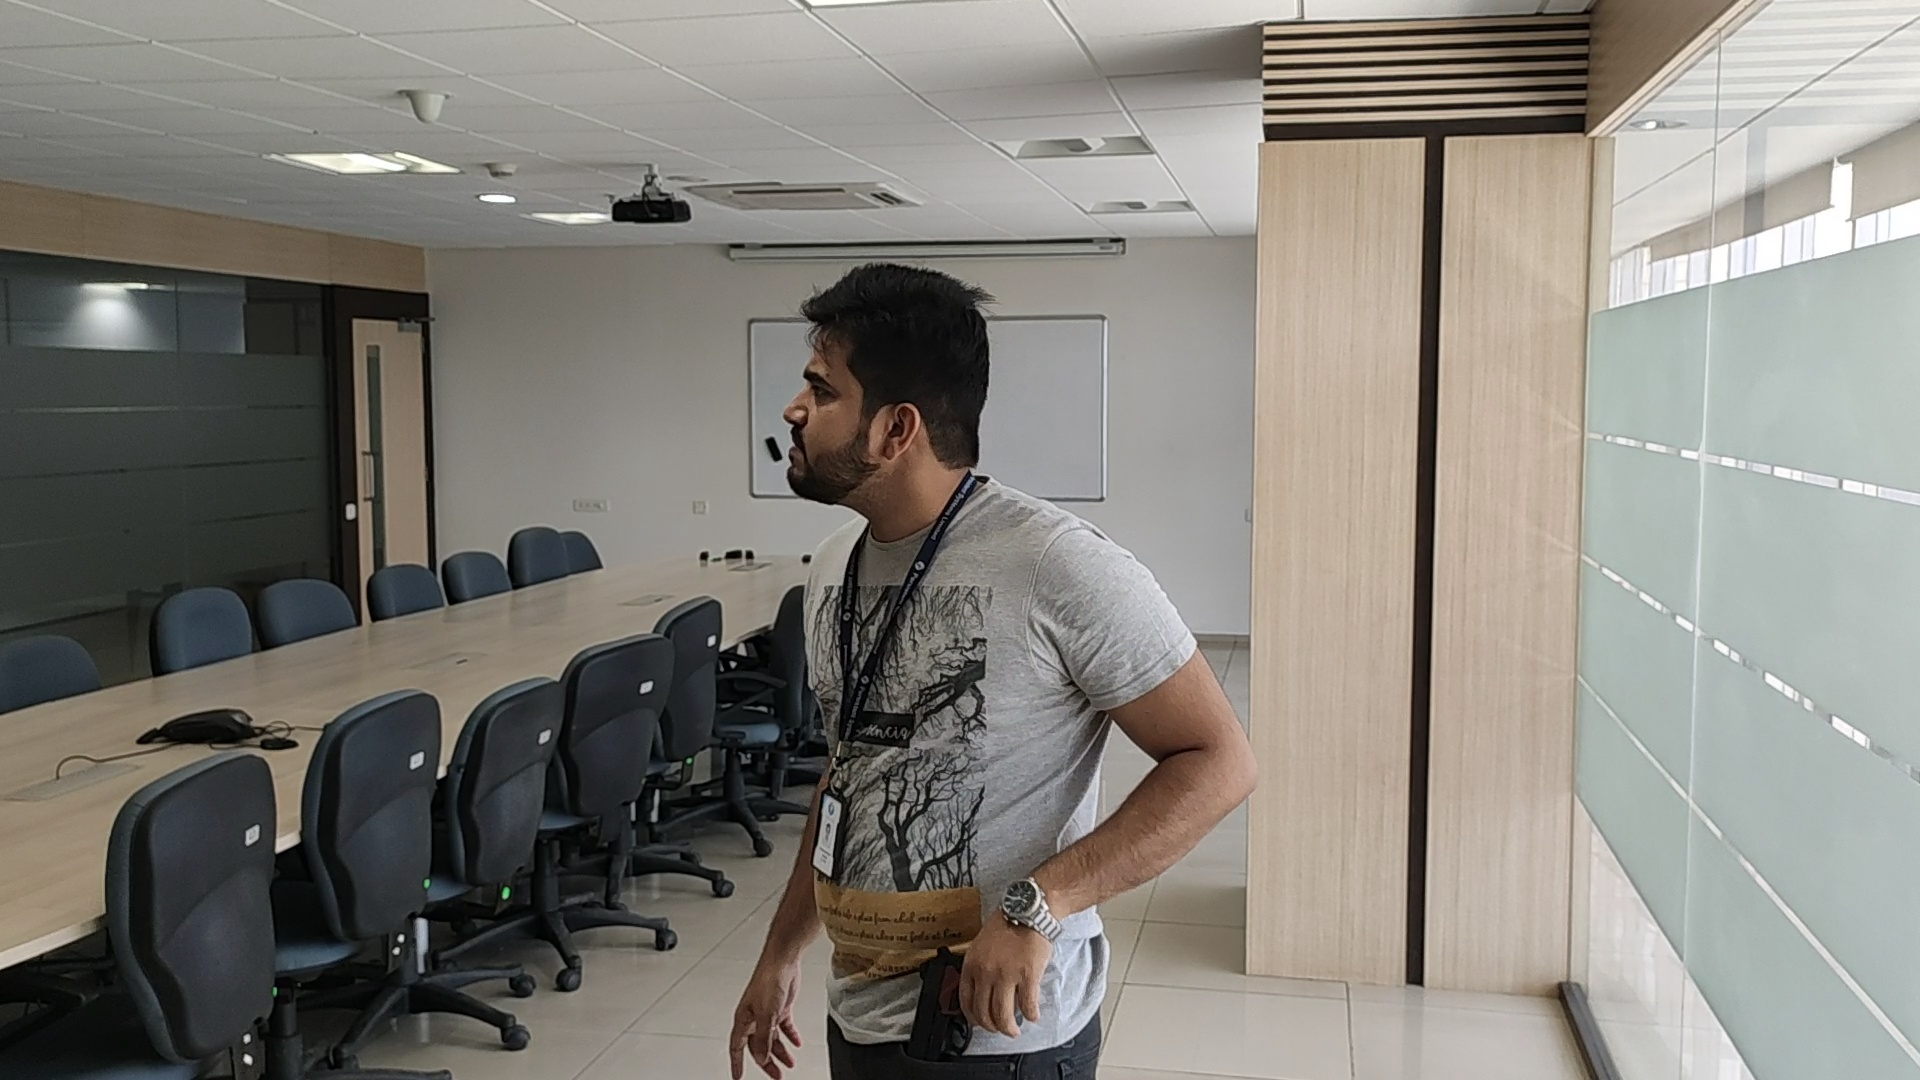gun: (910, 945, 960, 1060)
